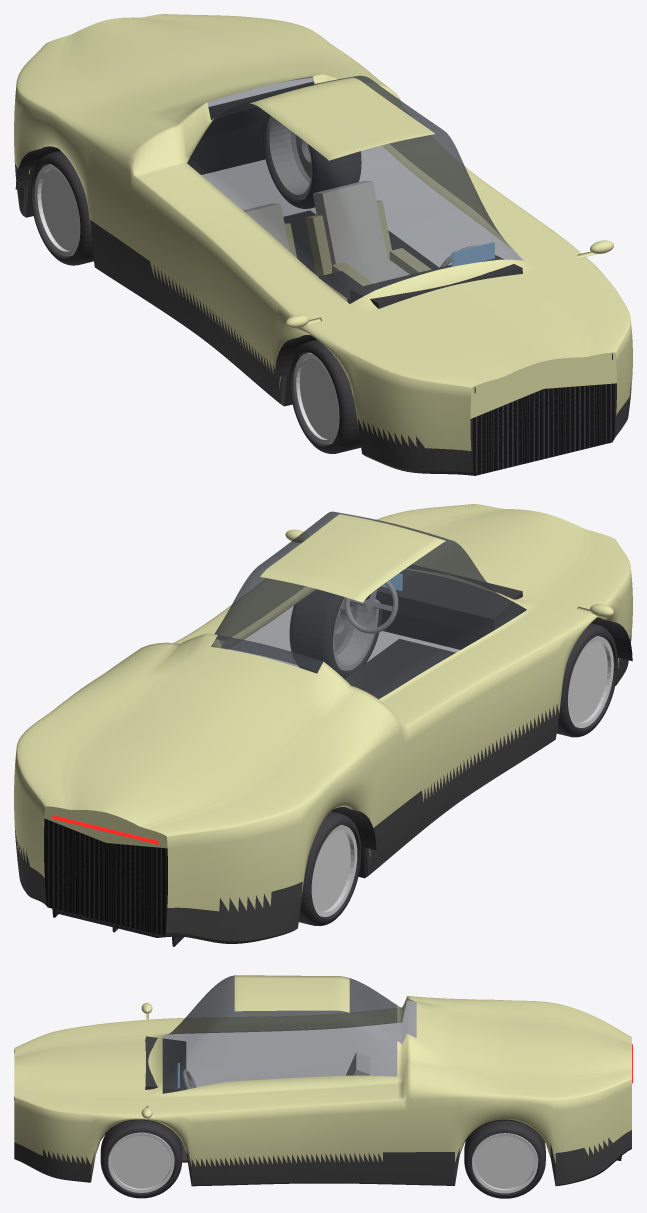
The model's file is rolls-royce-spectre.glb.
3 views of the same model, one above another, from view 1: azimuth 30°, elevation 25°; view 2: azimuth 150°, elevation 25°; view 3: azimuth 270°, elevation 25° (orthographic). The views are drawn at different scales.
Parts seen in each view (by area): view 1: Body_PrimaryPaint, Glass_Windows, Body_SecondaryPaint, Carbon_Exterior, Interior_Seats, Underbody, Rim_FR, Rim_RR, Tire_FR, Interior_SeatBolsters, Tire_RL, Tire_RR (+6 smaller); view 2: Body_PrimaryPaint, Glass_Windows, Body_SecondaryPaint, Carbon_Exterior, Interior_Dashboard, Tire_FL, Rim_FR, Rim_RR, Interior_Tub, Tire_RR, Underbody, Tire_FR (+4 smaller); view 3: Body_PrimaryPaint, Glass_Windows, Body_SecondaryPaint, Rim_FL, Rim_RL, Tire_FL, Tire_RL, Interior_Dashboard, Underbody, Interior_Seats.
Part boxes in pixels (x1=…): Body_PrimaryPaint: x1=14, y1=14, x2=632, y2=450; Glass_Windows: x1=187, y1=75, x2=523, y2=303; Body_SecondaryPaint: x1=14, y1=161, x2=631, y2=475; Carbon_Exterior: x1=470, y1=383, x2=616, y2=475; Interior_Seats: x1=243, y1=181, x2=409, y2=283; Underbody: x1=26, y1=81, x2=623, y2=438; Rim_FR: x1=293, y1=352, x2=339, y2=444; Rim_RR: x1=34, y1=164, x2=80, y2=256; Tire_FR: x1=289, y1=339, x2=360, y2=453; Interior_SeatBolsters: x1=285, y1=200, x2=431, y2=301; Tire_RL: x1=262, y1=112, x2=361, y2=208; Tire_RR: x1=30, y1=150, x2=93, y2=265; Body_PrimaryPaint: x1=14, y1=504, x2=632, y2=911; Glass_Windows: x1=211, y1=511, x2=526, y2=699; Body_SecondaryPaint: x1=14, y1=634, x2=631, y2=943; Carbon_Exterior: x1=44, y1=818, x2=183, y2=946; Interior_Dashboard: x1=352, y1=564, x2=523, y2=634; Tire_FL: x1=289, y1=589, x2=382, y2=678; Rim_FR: x1=568, y1=636, x2=613, y2=727; Rim_RR: x1=311, y1=825, x2=357, y2=916; Interior_Tub: x1=344, y1=639, x2=455, y2=695; Tire_RR: x1=299, y1=811, x2=361, y2=925; Underbody: x1=24, y1=608, x2=601, y2=906; Tire_FR: x1=556, y1=623, x2=617, y2=737; Body_PrimaryPaint: x1=14, y1=975, x2=631, y2=1170; Glass_Windows: x1=162, y1=975, x2=416, y2=1093; Body_SecondaryPaint: x1=14, y1=1130, x2=631, y2=1185; Rim_FL: x1=108, y1=1132, x2=174, y2=1192; Rim_RL: x1=472, y1=1133, x2=538, y2=1193; Tire_FL: x1=100, y1=1120, x2=182, y2=1198; Tire_RL: x1=464, y1=1120, x2=545, y2=1198; Interior_Dashboard: x1=145, y1=1036, x2=186, y2=1093; Underbody: x1=14, y1=1119, x2=631, y2=1186; Interior_Seats: x1=346, y1=1052, x2=369, y2=1075.
Size of the model in its own units: 2.35 by 1.55 by 5.46.
Materials: 16 (2 with a texture image).
